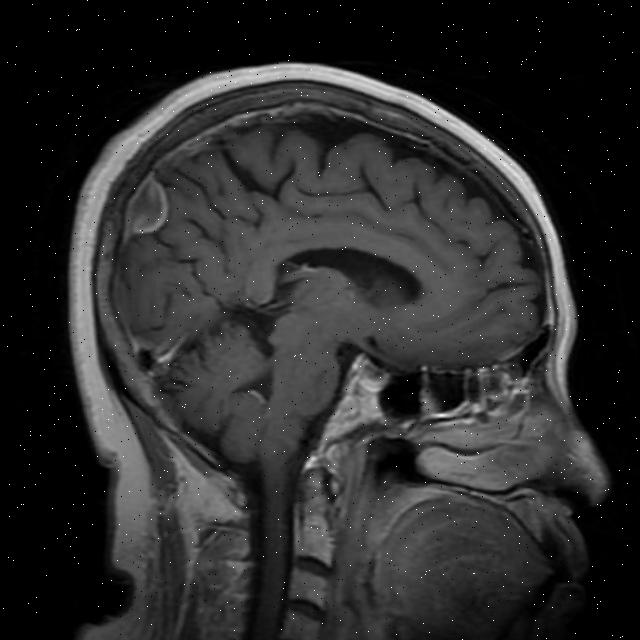Meningioma: (116, 173, 173, 238)
Pituitary: (352, 351, 391, 394)
